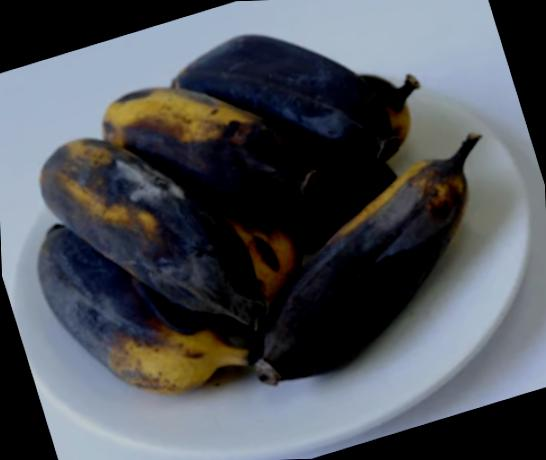Banana Overripe: (0, 13, 530, 429)
